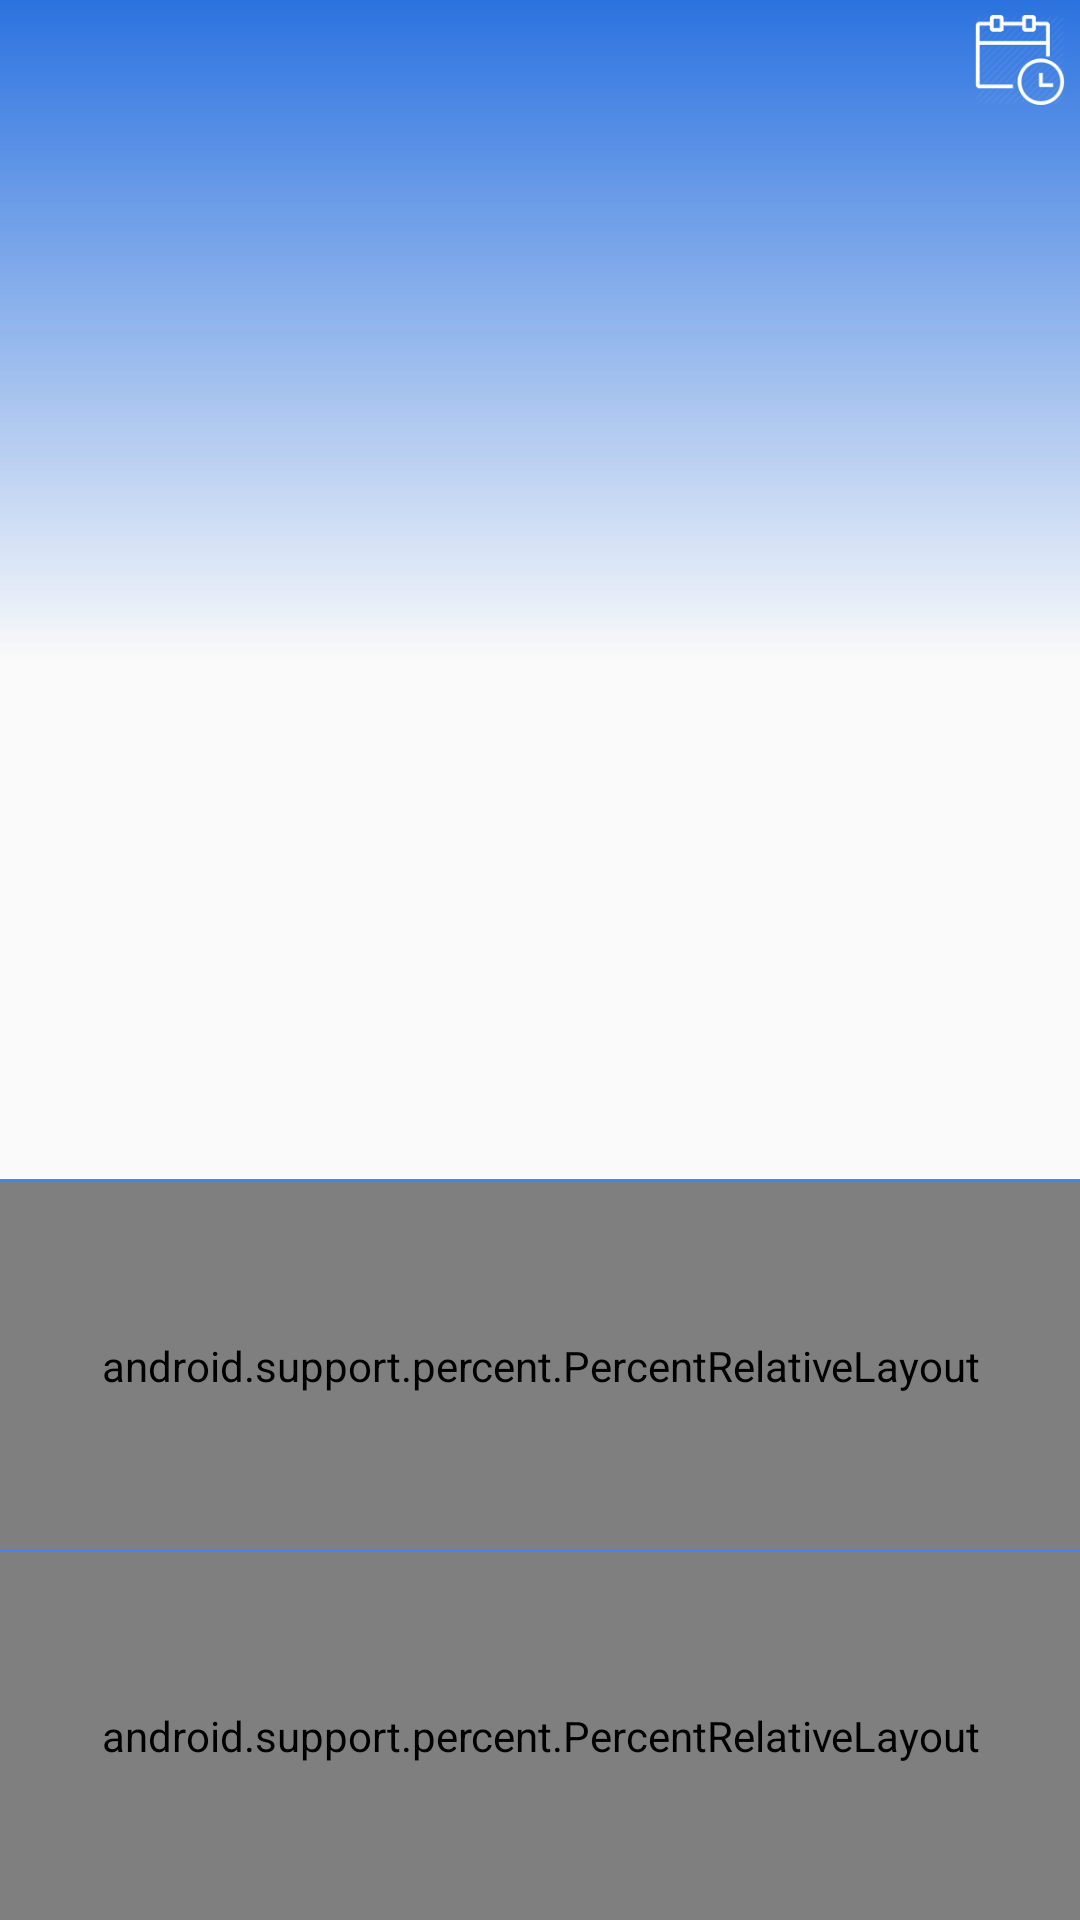

Point at icon controls on the screen. Image size 1080w x 1920h, points as (x,y).
calendar: (1020,52)
